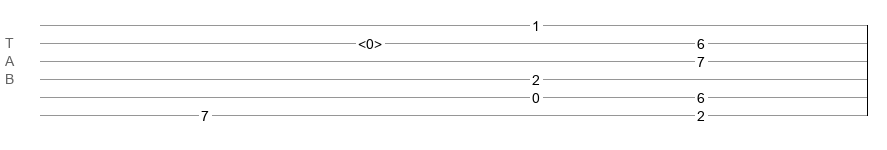0: (532, 90, 540, 100)
1: (532, 18, 540, 28)
2: (532, 72, 540, 82), (697, 108, 705, 118)
6: (697, 36, 705, 46), (697, 90, 705, 100)
7: (201, 108, 209, 118), (697, 54, 705, 64)
harmonic: (358, 36, 382, 46)
